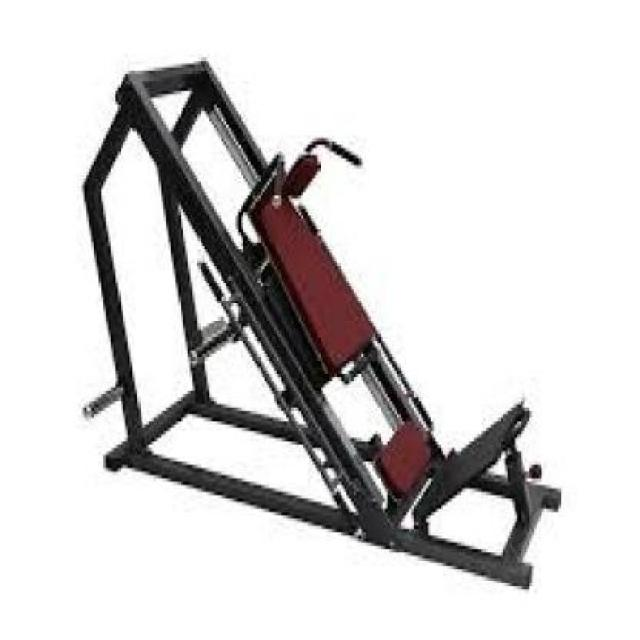leg press: (67, 40, 596, 606)
